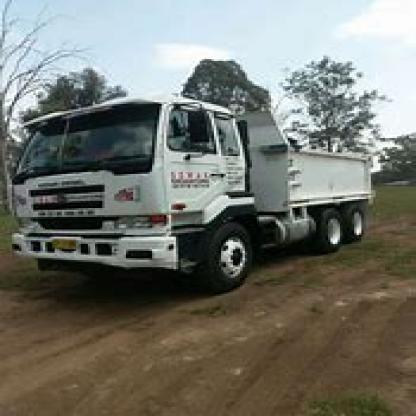dump_truck: (17, 95, 378, 287)
